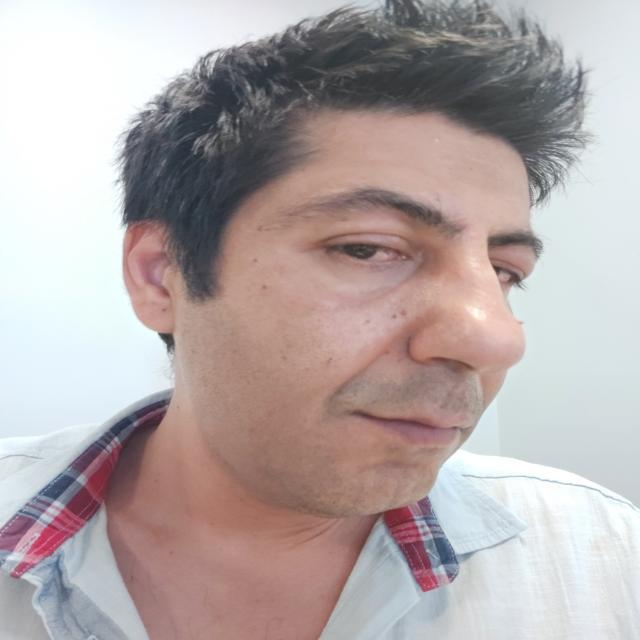Acne: (228, 245, 278, 307), (366, 296, 410, 336), (504, 312, 534, 344)
